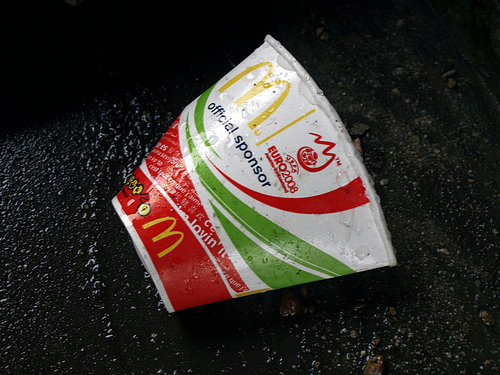litter: (111, 31, 397, 315)
